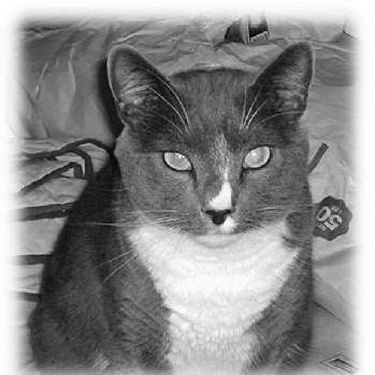cat: (26, 40, 314, 371)
